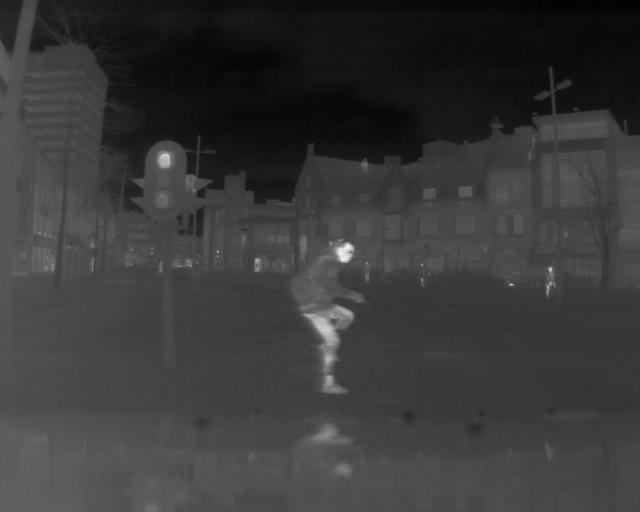person: (292, 233, 363, 398), (543, 262, 560, 300), (415, 258, 428, 289), (364, 258, 372, 287)
